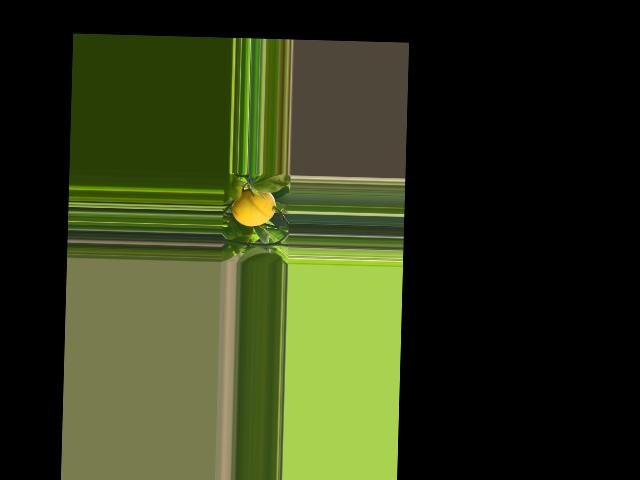lemon: (230, 188, 279, 227)
